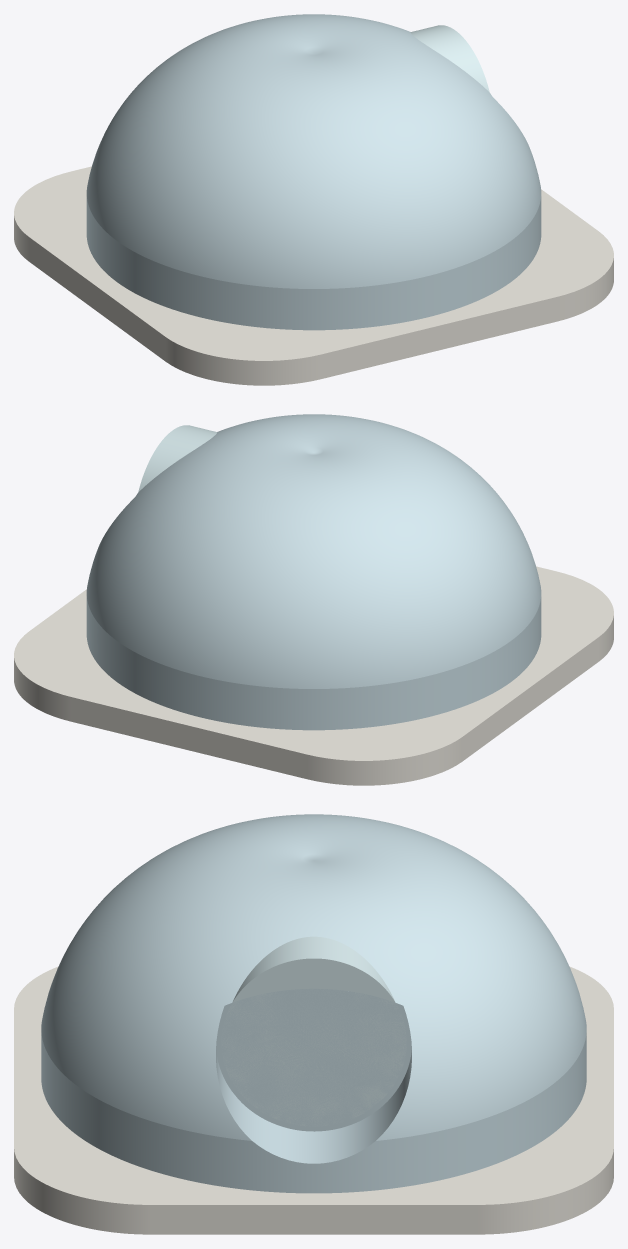
Rendered from cannula_head_dummy.glb.
3 renders of one model, top to bottom at view 1: azimuth 30°, elevation 25°; view 2: azimuth 150°, elevation 25°; view 3: azimuth 270°, elevation 25°, orthographic. The views are drawn at different scales.
Parts seen in each view (by area): view 1: dome, patch, septum; view 2: dome, patch, septum; view 3: dome, patch, septum.
Part boxes in pixels (x1=…): dome: x1=86, y1=14, x2=541, y2=330; patch: x1=14, y1=166, x2=613, y2=385; septum: x1=410, y1=25, x2=489, y2=91; dome: x1=86, y1=414, x2=541, y2=730; patch: x1=14, y1=566, x2=613, y2=785; septum: x1=138, y1=425, x2=217, y2=491; dome: x1=41, y1=814, x2=586, y2=1193; patch: x1=14, y1=966, x2=613, y2=1234; septum: x1=221, y1=936, x2=406, y2=1126.
Size of the model in its own units: 0.011 by 0.00509 by 0.011.
